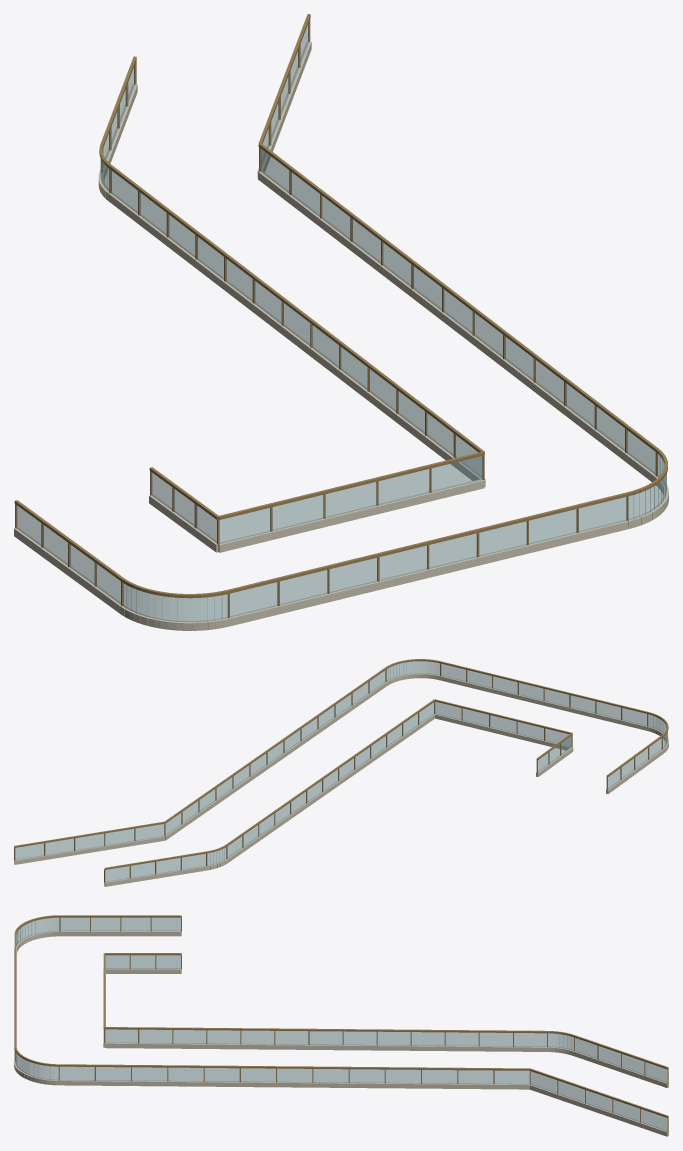
Rendered from AST-RTL-005_approach.glb.
The picture shows the model from 3 angles, top to bottom: view 1: azimuth 30°, elevation 25°; view 2: azimuth 150°, elevation 25°; view 3: azimuth 270°, elevation 25°; orthographic projection. The views are drawn at different scales.
Parts seen in each view (by area): view 1: APP_glass, APP_ivory_enamel, APP_champagne_metal; view 2: APP_glass, APP_ivory_enamel, APP_champagne_metal; view 3: APP_glass, APP_ivory_enamel, APP_champagne_metal.
Part boxes in pixels (box(x1,y1,x2,y2)): APP_glass: box(16, 23, 666, 622); APP_ivory_enamel: box(14, 41, 668, 630); APP_champagne_metal: box(14, 14, 667, 618); APP_glass: box(15, 661, 667, 881); APP_ivory_enamel: box(14, 673, 668, 886); APP_champagne_metal: box(14, 659, 668, 882); APP_glass: box(15, 917, 667, 1131); APP_ivory_enamel: box(14, 930, 668, 1136); APP_champagne_metal: box(14, 915, 668, 1131).
Size of the model in its own units: 23.53 by 1.1 by 32.31.
3 materials, 2 textured.
